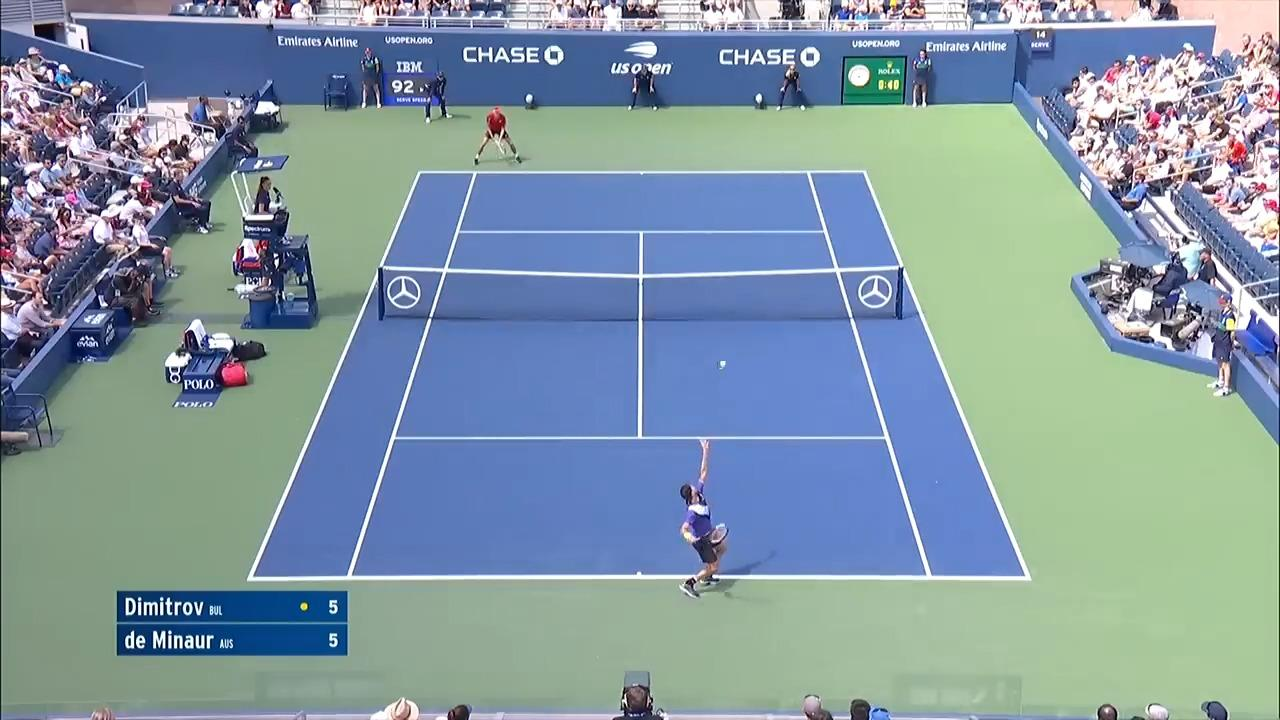tennis ball: (718, 361, 726, 368)
